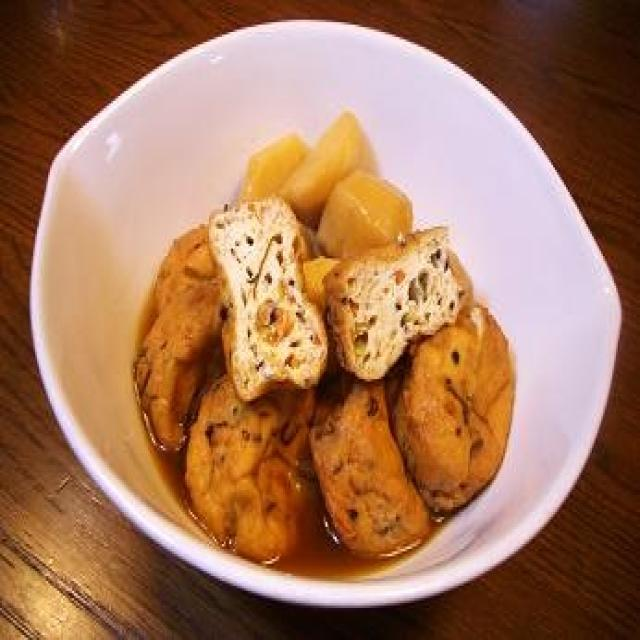熟制海鲜: (33, 12, 620, 616)
